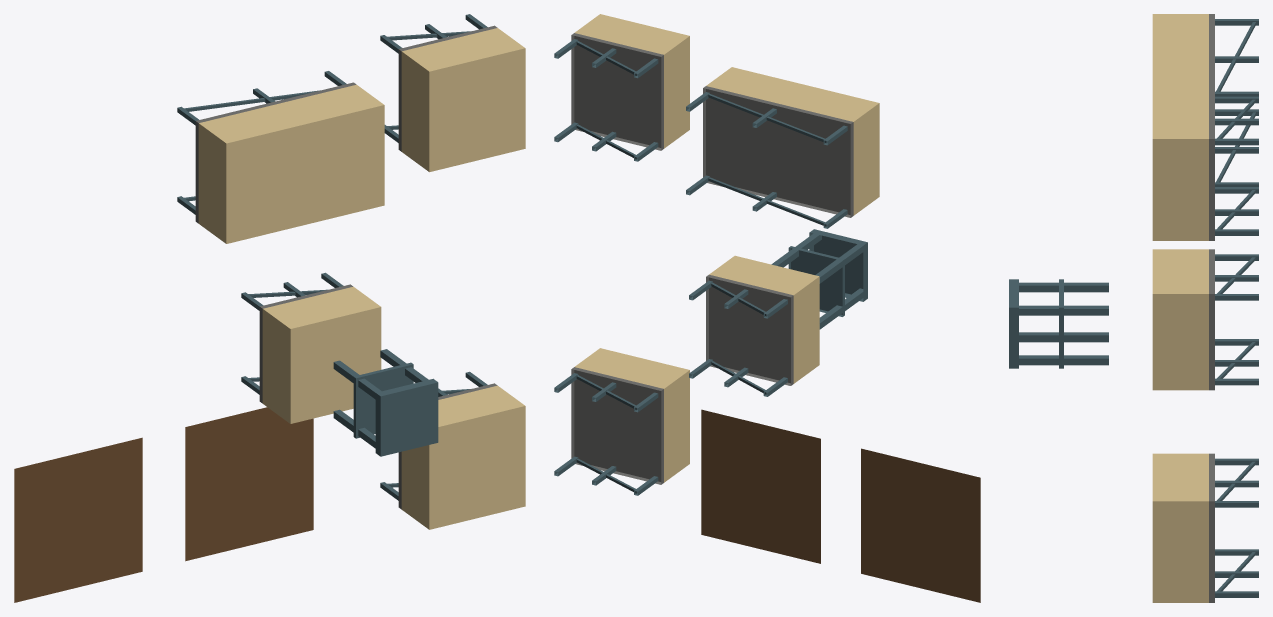
File: construction_1.glb
3 renders of one model, left to right at view 1: azimuth 30°, elevation 25°; view 2: azimuth 150°, elevation 25°; view 3: azimuth 270°, elevation 25°, orthographic. The views are drawn at different scales.
Parts seen in each view (by area): view 1: t12_g2.001, t11_g0.001, t00_g5.001, t22_g3.001, t10_g6.001, t20_g3.001; view 2: t12_g2.001, t11_g0.001, t10_g6.001, t00_g5.001, t20_g3.001, t22_g3.001; view 3: t11_g0.001, t22_g3.001, t20_g3.001, t12_g2.001.
Boxes of the visible parts, x1,y1,x2,y2 form: t12_g2.001: [177, 71, 384, 243]; t11_g0.001: [241, 272, 438, 456]; t00_g5.001: [14, 437, 142, 602]; t22_g3.001: [380, 14, 525, 172]; t10_g6.001: [185, 407, 313, 561]; t20_g3.001: [380, 371, 525, 529]; t12_g2.001: [686, 67, 879, 228]; t11_g0.001: [689, 229, 867, 396]; t10_g6.001: [701, 409, 820, 563]; t00_g5.001: [861, 448, 980, 602]; t20_g3.001: [554, 348, 689, 495]; t22_g3.001: [554, 14, 689, 161]; t11_g0.001: [1009, 249, 1258, 390]; t22_g3.001: [1152, 91, 1258, 240]; t20_g3.001: [1152, 453, 1258, 602]; t12_g2.001: [1152, 14, 1258, 186].
Bounding box in the file's own units: 43 × 43 × 20.
